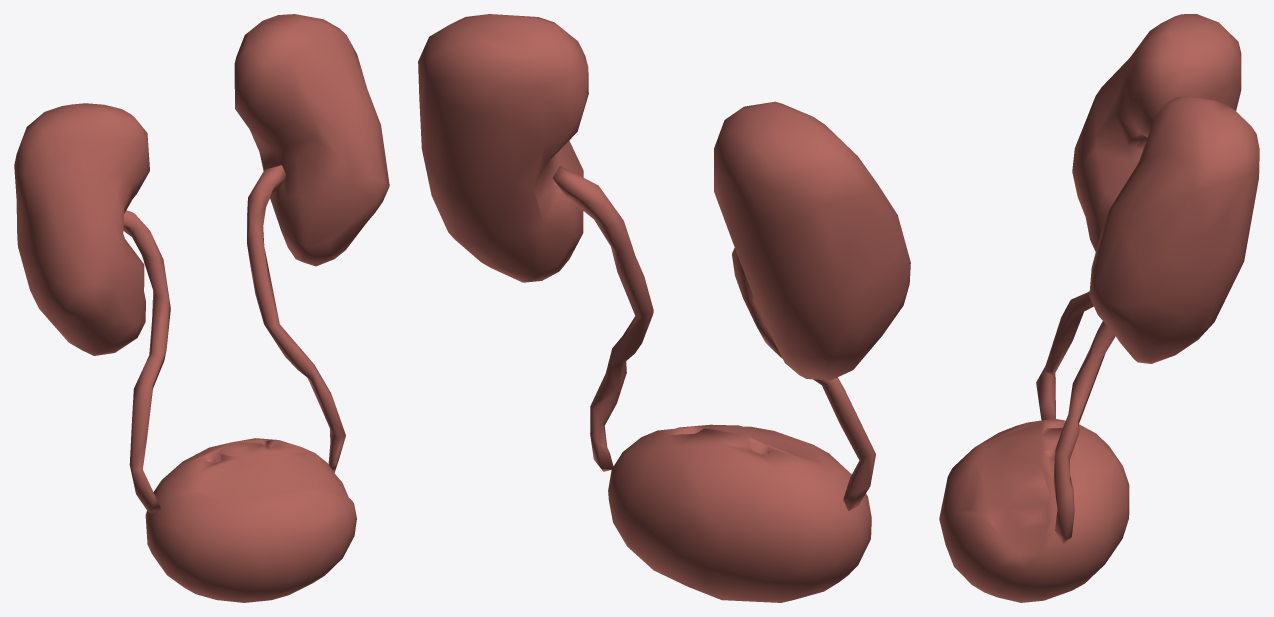
File: pediatric_neonate_male.urinary.LOD2.glb
3 views of the same model, side by side, from view 1: azimuth 30°, elevation 25°; view 2: azimuth 150°, elevation 25°; view 3: azimuth 270°, elevation 25° (orthographic). The views are drawn at different scales.
Visible parts, largest first — view 1: PEDIATRIC.NEONATE.MALE.URINARY.KIDNEY_CORTEX.R, PEDIATRIC.NEONATE.MALE.URINARY.KIDNEY_CORTEX.L, PEDIATRIC.NEONATE.MALE.URINARY.URINARY_BLADDER_WALL, PEDIATRIC.NEONATE.MALE.URINARY.URETER.L, PEDIATRIC.NEONATE.MALE.URINARY.URETER.R; view 2: PEDIATRIC.NEONATE.MALE.URINARY.KIDNEY_CORTEX.R, PEDIATRIC.NEONATE.MALE.URINARY.KIDNEY_CORTEX.L, PEDIATRIC.NEONATE.MALE.URINARY.URINARY_BLADDER_WALL, PEDIATRIC.NEONATE.MALE.URINARY.URETER.L, PEDIATRIC.NEONATE.MALE.URINARY.URETER.R; view 3: PEDIATRIC.NEONATE.MALE.URINARY.KIDNEY_CORTEX.L, PEDIATRIC.NEONATE.MALE.URINARY.URINARY_BLADDER_WALL, PEDIATRIC.NEONATE.MALE.URINARY.KIDNEY_CORTEX.R, PEDIATRIC.NEONATE.MALE.URINARY.URETER.L, PEDIATRIC.NEONATE.MALE.URINARY.URETER.R.
Boxes of the visible parts, left/top/right/bottom form: PEDIATRIC.NEONATE.MALE.URINARY.KIDNEY_CORTEX.R: left=14, top=103, right=149, bottom=355; PEDIATRIC.NEONATE.MALE.URINARY.KIDNEY_CORTEX.L: left=234, top=14, right=389, bottom=266; PEDIATRIC.NEONATE.MALE.URINARY.URINARY_BLADDER_WALL: left=145, top=438, right=356, bottom=602; PEDIATRIC.NEONATE.MALE.URINARY.URETER.L: left=247, top=165, right=345, bottom=472; PEDIATRIC.NEONATE.MALE.URINARY.URETER.R: left=123, top=210, right=170, bottom=513; PEDIATRIC.NEONATE.MALE.URINARY.KIDNEY_CORTEX.R: left=714, top=101, right=910, bottom=380; PEDIATRIC.NEONATE.MALE.URINARY.KIDNEY_CORTEX.L: left=418, top=14, right=588, bottom=282; PEDIATRIC.NEONATE.MALE.URINARY.URINARY_BLADDER_WALL: left=608, top=424, right=871, bottom=602; PEDIATRIC.NEONATE.MALE.URINARY.URETER.L: left=552, top=165, right=653, bottom=471; PEDIATRIC.NEONATE.MALE.URINARY.URETER.R: left=732, top=248, right=875, bottom=510; PEDIATRIC.NEONATE.MALE.URINARY.KIDNEY_CORTEX.L: left=1089, top=96, right=1259, bottom=363; PEDIATRIC.NEONATE.MALE.URINARY.URINARY_BLADDER_WALL: left=939, top=418, right=1129, bottom=602; PEDIATRIC.NEONATE.MALE.URINARY.KIDNEY_CORTEX.R: left=1072, top=14, right=1241, bottom=251; PEDIATRIC.NEONATE.MALE.URINARY.URETER.L: left=1053, top=321, right=1115, bottom=544; PEDIATRIC.NEONATE.MALE.URINARY.URETER.R: left=1036, top=291, right=1093, bottom=420.
Bounding box in the file's own units: 0.0723 × 0.0956 × 0.0515.
